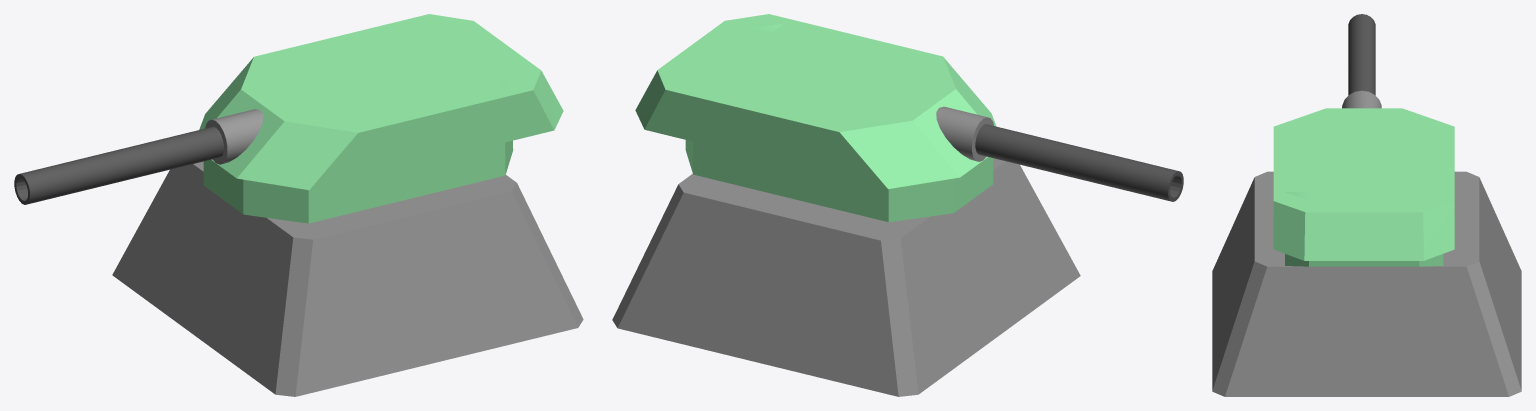
Rendered from Base_Turret.FBX.
The picture shows the model from 3 angles, left to right: view 1: azimuth 30°, elevation 25°; view 2: azimuth 150°, elevation 25°; view 3: azimuth 270°, elevation 25°; orthographic projection. The views are drawn at different scales.
Visible parts, largest first — view 1: Box035, Box036; view 2: Box035, Box036; view 3: Box035, Box036.
Boxes of the visible parts, left/top/right/bottom form: Box035: left=112, top=161, right=583, bottom=396; Box036: left=14, top=14, right=563, bottom=223; Box035: left=612, top=158, right=1080, bottom=396; Box036: left=635, top=14, right=1183, bottom=222; Box035: left=1212, top=171, right=1521, bottom=396; Box036: left=1273, top=14, right=1454, bottom=266.
Bounding box in the file's own units: 278 × 112 × 169.
